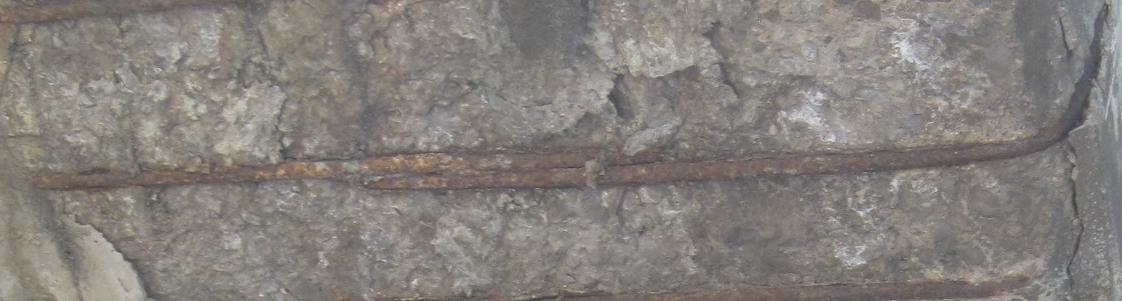Crack: (1066, 140, 1087, 291)
Exposed reinforcement: (24, 1, 1114, 192), (521, 273, 1035, 301), (1, 1, 241, 25)
